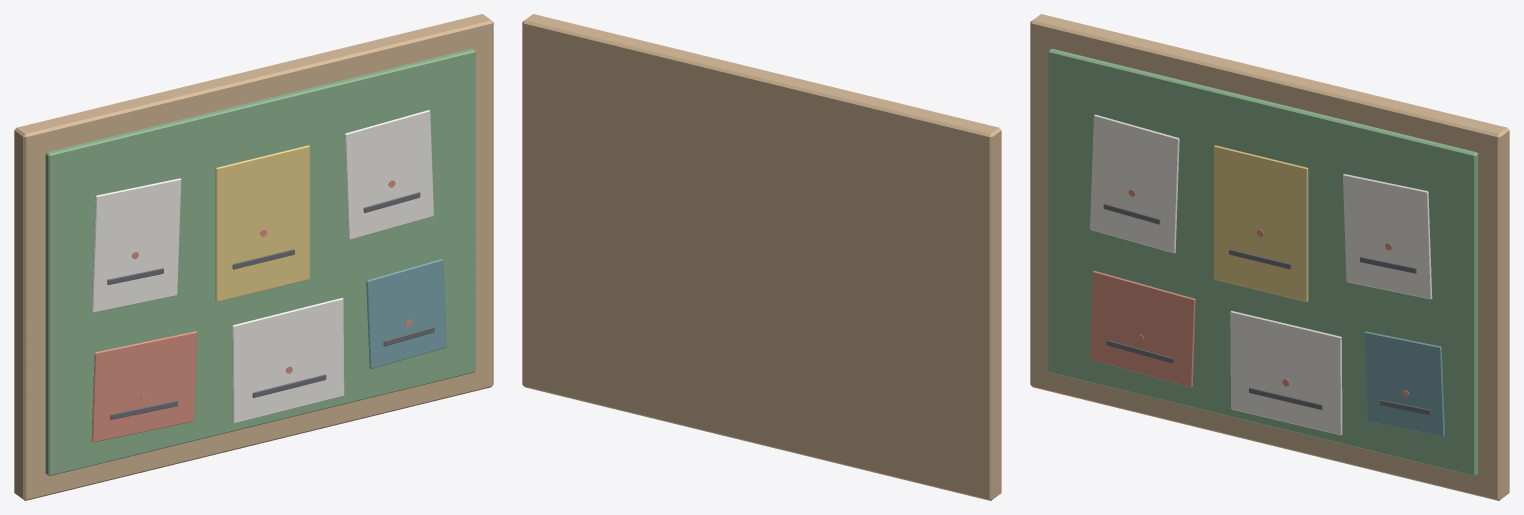
The model's file is care-home-and-day-room-activities-notice-board-5373e06e__35744.glb.
3 renders of one model, left to right at view 1: azimuth 30°, elevation 25°; view 2: azimuth 150°, elevation 25°; view 3: azimuth 330°, elevation 25°, orthographic.
Parts seen in each view (by area): view 1: activities-notice-board; view 2: activities-notice-board; view 3: activities-notice-board.
Boxes of the visible parts, x1,y1,x2,y2 form: activities-notice-board: (14, 14, 493, 500); activities-notice-board: (522, 14, 1001, 500); activities-notice-board: (1030, 14, 1509, 500).
Size of the model in its own units: 1.1 by 0.82 by 0.064.
